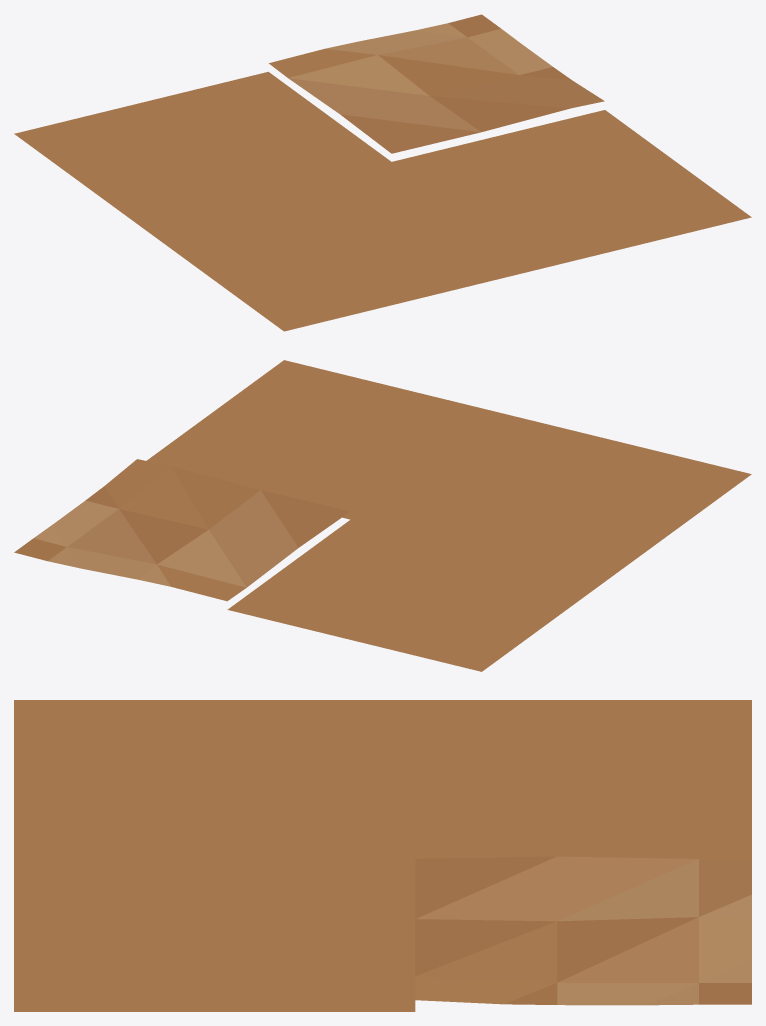
3 views of the same model, one above another, from view 1: azimuth 30°, elevation 25°; view 2: azimuth 150°, elevation 25°; view 3: azimuth 270°, elevation 25° (orthographic). The views are drawn at different scales.
Parts seen in each view (by area): view 1: baked; view 2: baked; view 3: baked.
Boxes of the visible parts, x1,y1,x2,y2 form: baked: (14,14,751,331); baked: (14,360,751,671); baked: (14,700,751,1011).
Size of the model in its own units: 62.5 by 1.24 by 62.5.
